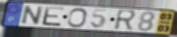5: (90, 8, 110, 30)
8: (137, 11, 158, 33)
E: (42, 6, 67, 28)
N: (20, 5, 45, 26)
O: (66, 7, 88, 28)
R: (113, 9, 138, 32)
